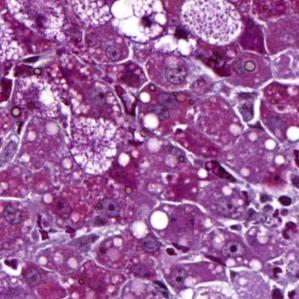ballooning: (109, 3, 172, 46)
